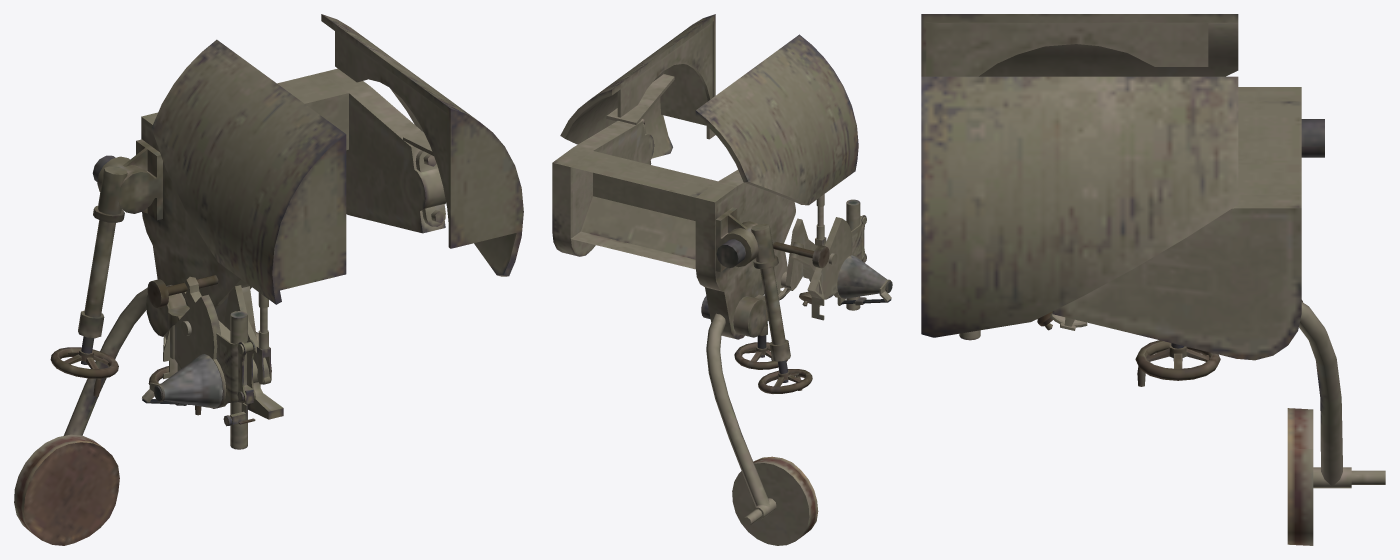
The model's file is Turret_02.glb.
The picture shows the model from 3 angles, left to right: view 1: azimuth 30°, elevation 25°; view 2: azimuth 150°, elevation 25°; view 3: azimuth 270°, elevation 25°; orthographic projection. The views are drawn at different scales.
Visible parts, largest first — view 1: set_0_group_0; view 2: set_0_group_0; view 3: set_0_group_0.
Boxes of the visible parts, <box> form: set_0_group_0: <box>14,14,523,545</box>; set_0_group_0: <box>552,14,892,545</box>; set_0_group_0: <box>921,14,1385,545</box>.
Bounding box in the file's own units: 1.16 × 1.55 × 1.09.
1 material, 1 textured.
